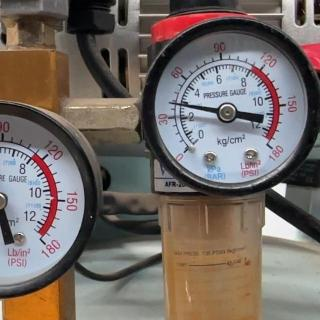gauge: (142, 11, 320, 199), (1, 97, 102, 307), (217, 101, 237, 123), (180, 138, 202, 156), (261, 136, 279, 156), (34, 232, 52, 252), (166, 99, 177, 108)
